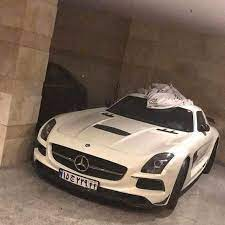car: (59, 168, 99, 193)
